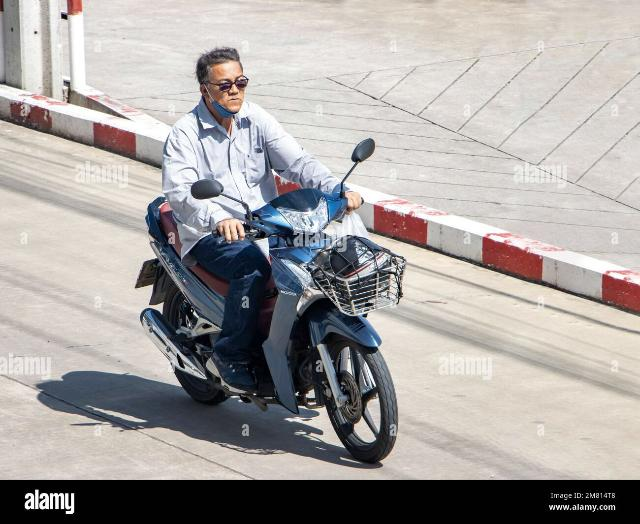motor: (149, 138, 400, 467)
non-helm: (198, 48, 249, 114)
